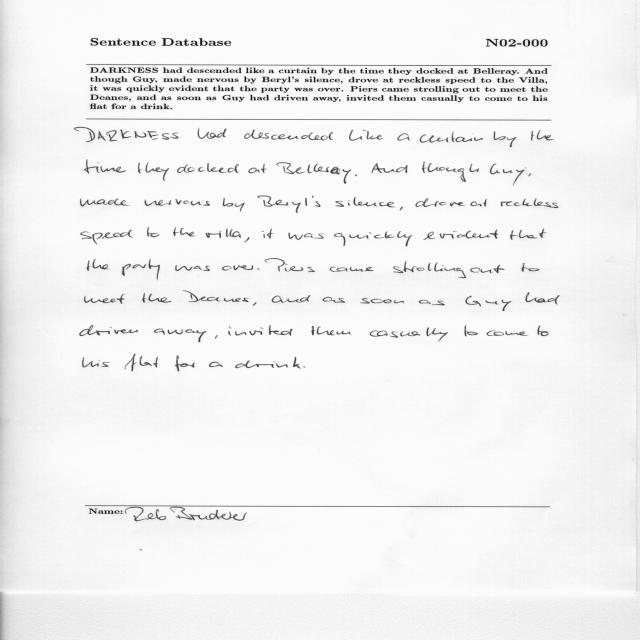word: (277, 162, 352, 184), (75, 128, 179, 143), (334, 231, 412, 247), (393, 261, 466, 278), (422, 161, 479, 182), (370, 327, 448, 342), (257, 196, 321, 213), (244, 130, 333, 141), (122, 259, 160, 280), (235, 357, 300, 369), (424, 230, 498, 240), (490, 164, 525, 185), (81, 230, 133, 244), (154, 329, 206, 343), (184, 291, 249, 302), (228, 325, 293, 336), (419, 132, 483, 143), (466, 296, 512, 311), (265, 259, 315, 272), (80, 325, 138, 336), (177, 163, 239, 173), (335, 197, 395, 207), (138, 162, 169, 181), (124, 355, 158, 372), (501, 198, 558, 208), (84, 160, 126, 173), (144, 199, 210, 206), (416, 198, 466, 207), (526, 292, 560, 305), (84, 294, 125, 304), (510, 229, 547, 240), (80, 199, 129, 207), (349, 130, 383, 141), (494, 131, 517, 147), (372, 163, 408, 173), (311, 326, 351, 335), (206, 229, 241, 239), (175, 355, 195, 372), (198, 128, 227, 139), (223, 198, 245, 212), (82, 357, 110, 368), (272, 295, 310, 303), (142, 293, 171, 303), (470, 265, 505, 273), (87, 259, 109, 271), (360, 298, 404, 304), (531, 130, 554, 141), (288, 233, 324, 240), (486, 330, 528, 336), (330, 267, 374, 272), (175, 265, 210, 271), (173, 228, 195, 237), (222, 265, 253, 271), (248, 164, 267, 173), (522, 263, 540, 272), (465, 325, 478, 337), (471, 199, 488, 207), (323, 297, 345, 303), (261, 229, 274, 239), (419, 300, 445, 305), (538, 326, 549, 336), (147, 228, 159, 237), (398, 134, 411, 141), (209, 362, 223, 367), (244, 237, 249, 243), (253, 302, 257, 306), (215, 335, 218, 339), (528, 174, 531, 177), (400, 207, 403, 210), (355, 175, 357, 177), (257, 268, 259, 270), (304, 367, 306, 368)
